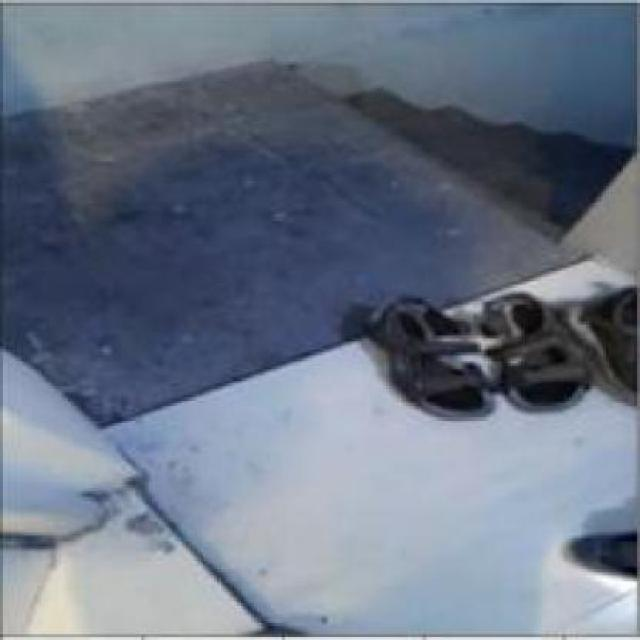stair: (298, 17, 598, 226)
